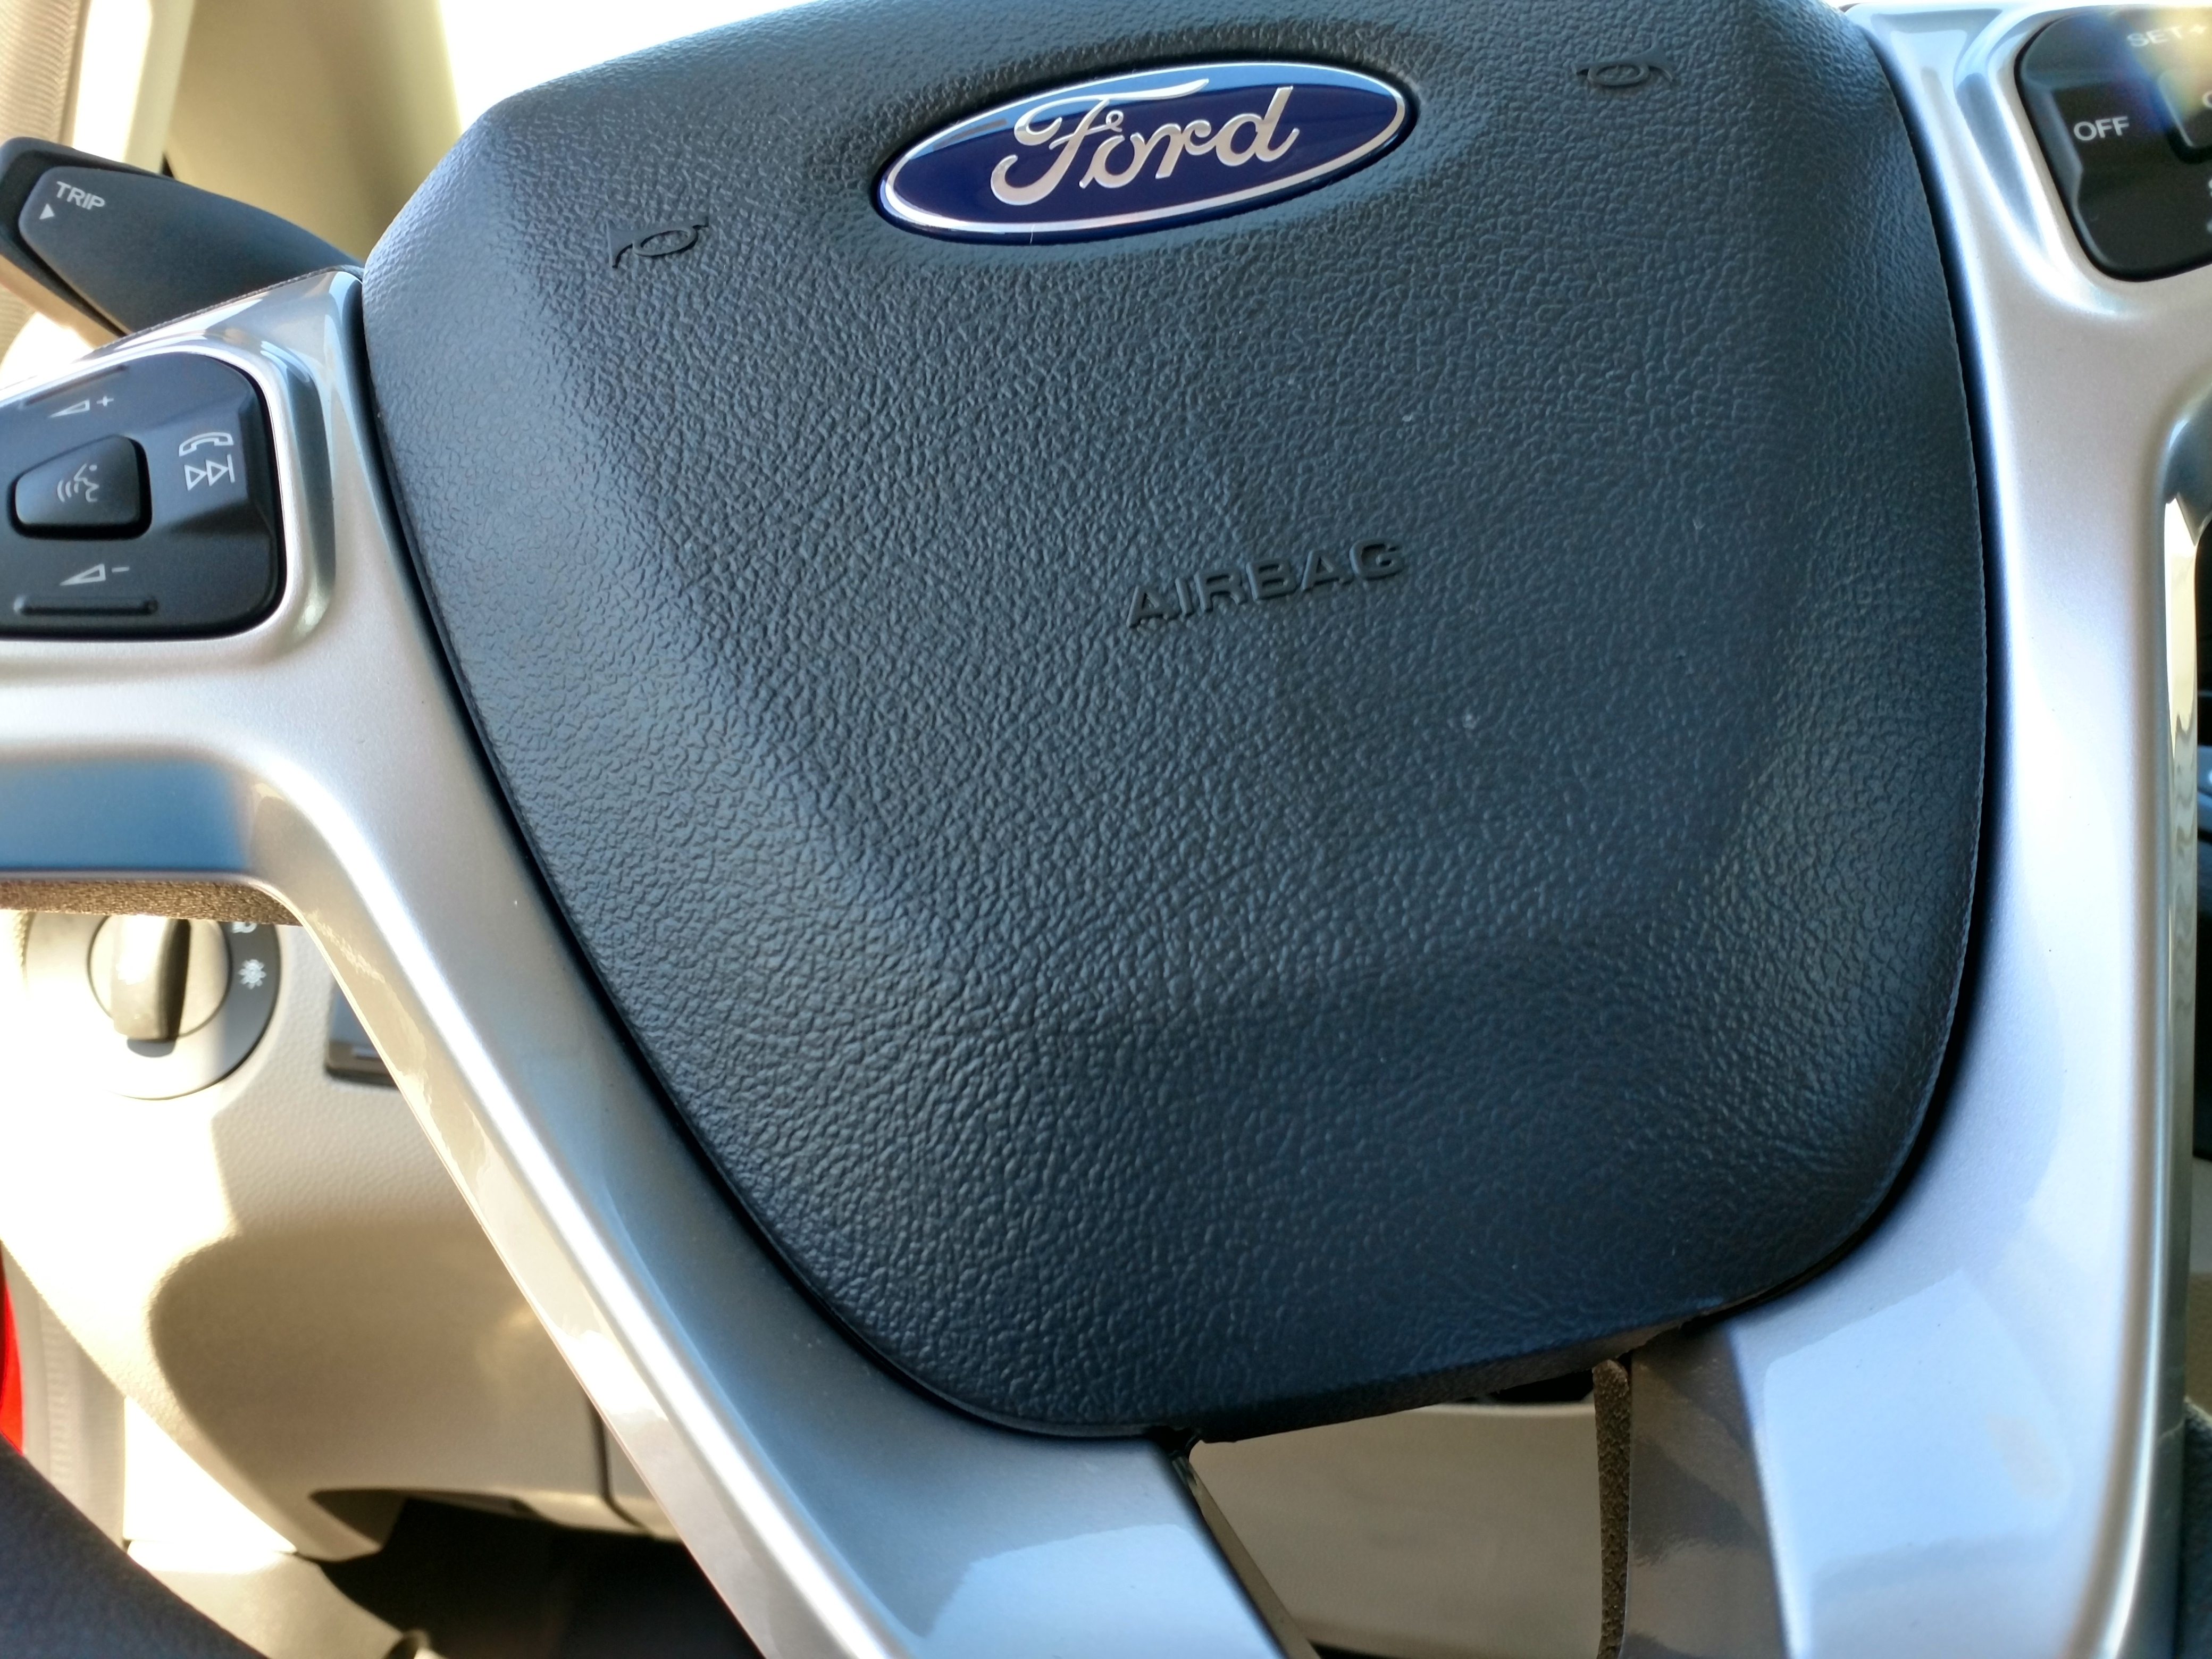Ford: (864, 37, 1426, 254)
